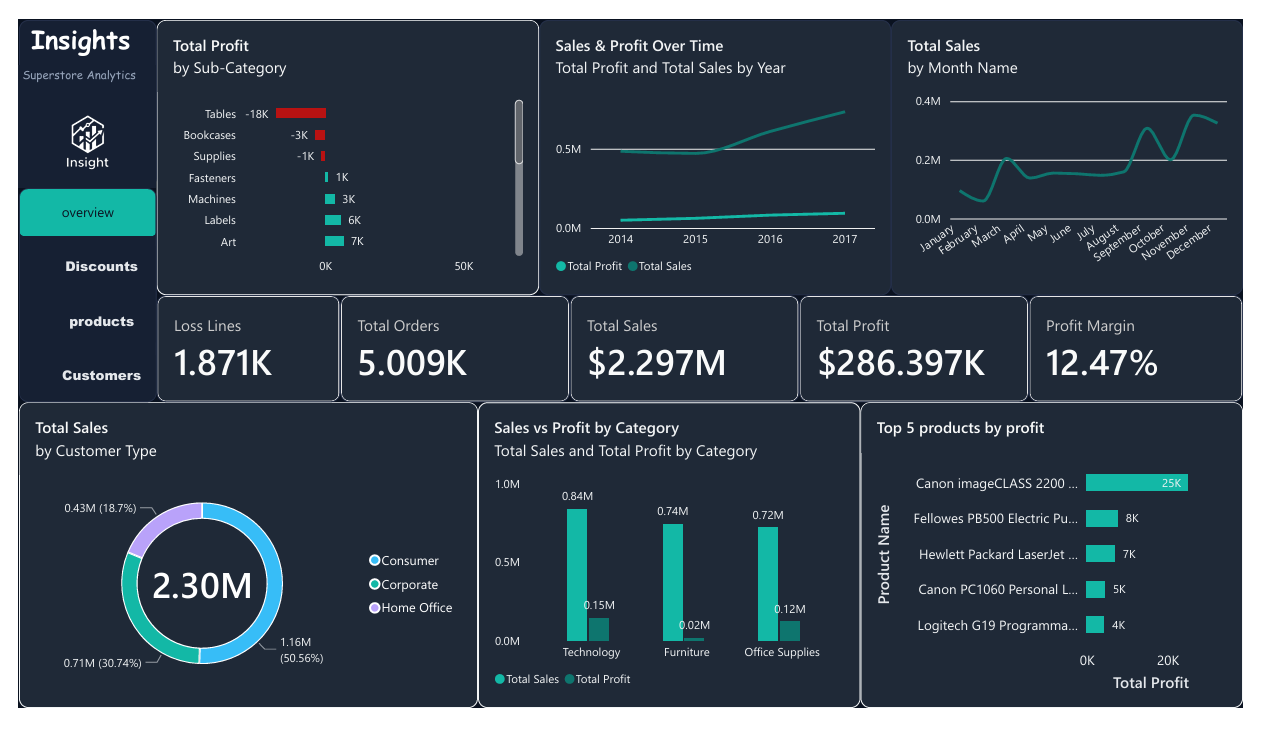

The dashboard page shown, as its layout file describes it:
{"tool":"powerbi","page":{"name":"overview","canvas":[1280,720],"ordinal":0},"visuals":[{"type":"cardVisual","fields":{"Data":["Sample - Superstore.Total Sales"]},"box":[576,288,240,112],"z":0},{"type":"cardVisual","fields":{"Data":["Sample - Superstore.Total Profit"]},"box":[816,288,240,112],"z":1000},{"type":"cardVisual","fields":{"Data":["Sample - Superstore.Profit Margin"]},"box":[1056,288,224,112],"z":2000},{"type":"cardVisual","fields":{"Data":["Sample - Superstore.Total Orders"]},"box":[336,288,240,112],"z":3000},{"type":"barChart","fields":{"Category":["dimension product.Sub-Category"],"Y":["Sample - Superstore.Total Profit"]},"box":[144,0,400,288],"z":4000},{"type":"clusteredColumnChart","title":"Sales vs Profit by Category","fields":{"Category":["dimension product.Category"],"Y":["Sample - Superstore.Total Sales","Sample - Superstore.Total Profit"]},"box":[480,400,400,320],"z":5000},{"type":"lineChart","title":"Sales & Profit Over Time","fields":{"Category":["dimension date.Year"],"Y":["Sample - Superstore.Total Profit","Sample - Superstore.Total Sales"]},"box":[544,0,368,288],"z":6000},{"type":"donutChart","title":"Total Sales","fields":{"Category":["dimension customer.Segment"],"Y":["Sample - Superstore.Total Sales"]},"box":[0,400,480,320],"z":7000},{"type":"pageNavigator","box":[0,176,144,224],"z":8000},{"type":"textbox","box":[0,0,144,176],"z":9000},{"type":"textbox","box":[0,48,144,32],"z":10000},{"type":"clusteredBarChart","title":"Top 5 products by profit","fields":{"Category":["dimension product.Product Name"],"Y":["Sample - Superstore.Total Profit"]},"box":[880,400,400,320],"z":11000},{"type":"image","box":[0,80,144,96],"z":12000},{"type":"lineChart","fields":{"Category":["dimension date.Month Name"],"Y":["Sample - Superstore.Total Sales"]},"box":[912,0,368,288],"z":13000},{"type":"cardVisual","fields":{"Data":["Sample - Superstore.Loss Lines"]},"box":[144,288,192,112],"z":14000}]}

Visuals, with their boxes in screenshot pixels (x1, y1, x2, y2), scaled from the page's 1280x720 canvas onto the 1265x730 screenshot:
cardVisual - Sample - Superstore.Total Sales: BBox(569, 292, 806, 406)
cardVisual - Sample - Superstore.Total Profit: BBox(806, 292, 1044, 406)
cardVisual - Sample - Superstore.Profit Margin: BBox(1044, 292, 1264, 406)
cardVisual - Sample - Superstore.Total Orders: BBox(332, 292, 569, 406)
barChart - dimension product.Sub-Category x Sample - Superstore.Total Profit: BBox(142, 0, 538, 292)
"Sales vs Profit by Category" clusteredColumnChart: BBox(474, 406, 870, 729)
"Sales & Profit Over Time" lineChart: BBox(538, 0, 901, 292)
"Total Sales" donutChart: BBox(0, 406, 474, 729)
pageNavigator: BBox(0, 178, 142, 406)
textbox: BBox(0, 0, 142, 178)
textbox: BBox(0, 49, 142, 81)
"Top 5 products by profit" clusteredBarChart: BBox(870, 406, 1264, 729)
image: BBox(0, 81, 142, 178)
lineChart - dimension date.Month Name x Sample - Superstore.Total Sales: BBox(901, 0, 1264, 292)
cardVisual - Sample - Superstore.Loss Lines: BBox(142, 292, 332, 406)
